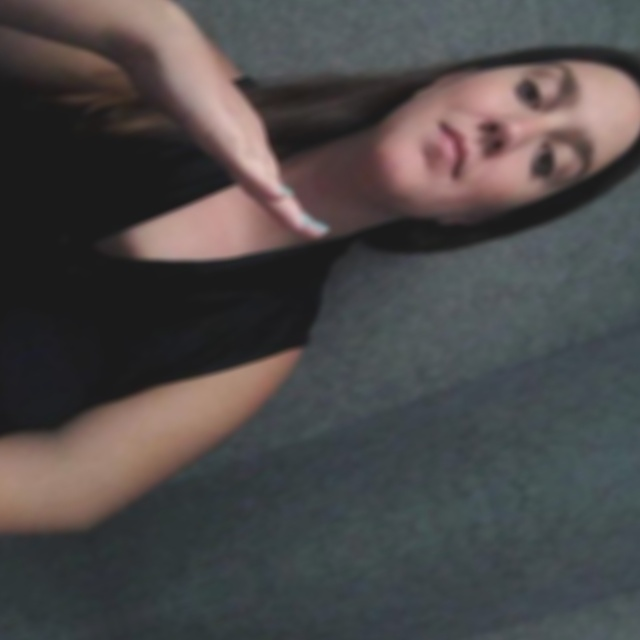Paper: (119, 4, 334, 274)
